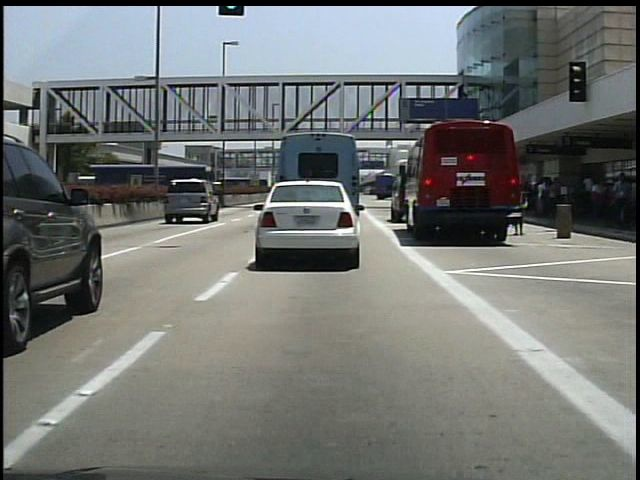person: (514, 187, 527, 237)
